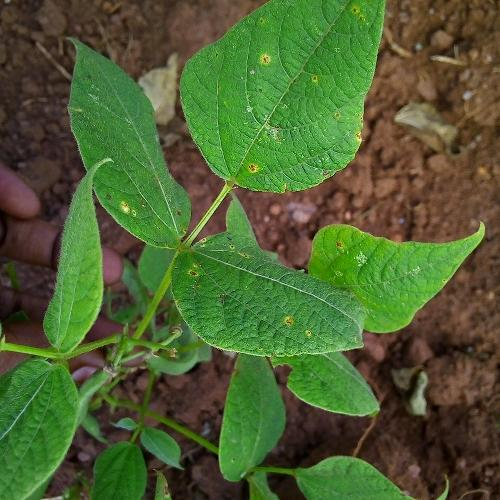hawar: (184, 272, 338, 394)
